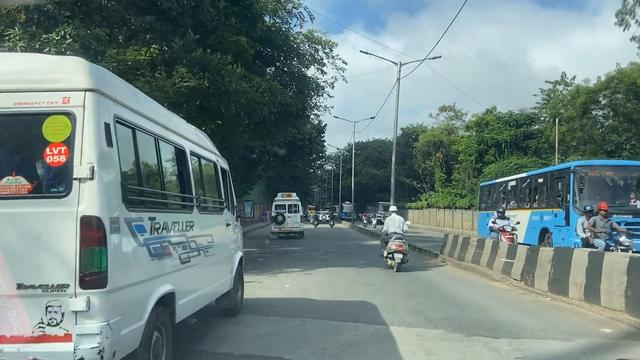HMV: (2, 53, 244, 355), (265, 192, 303, 234)
LMV: (373, 197, 408, 272)
